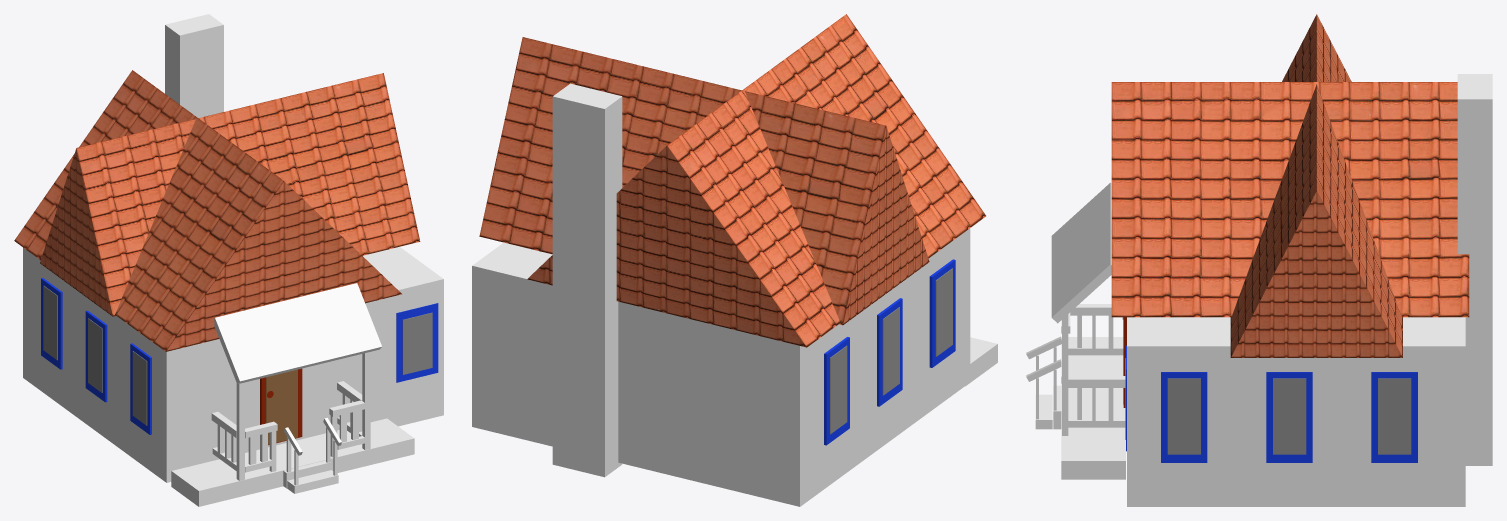
Rendered from housemodel.FBX.
3 renders of one model, left to right at view 1: azimuth 30°, elevation 25°; view 2: azimuth 150°, elevation 25°; view 3: azimuth 270°, elevation 25°, orthographic. The views are drawn at different scales.
Parts seen in each view (by area): view 1: Object004; view 2: Object004; view 3: Object004.
Part boxes in pixels (x1,y1,x2,y2): Object004: (14, 14, 443, 506); Object004: (472, 14, 997, 506); Object004: (1026, 14, 1492, 506).
Size of the model in its own units: 156 by 152 by 174.
